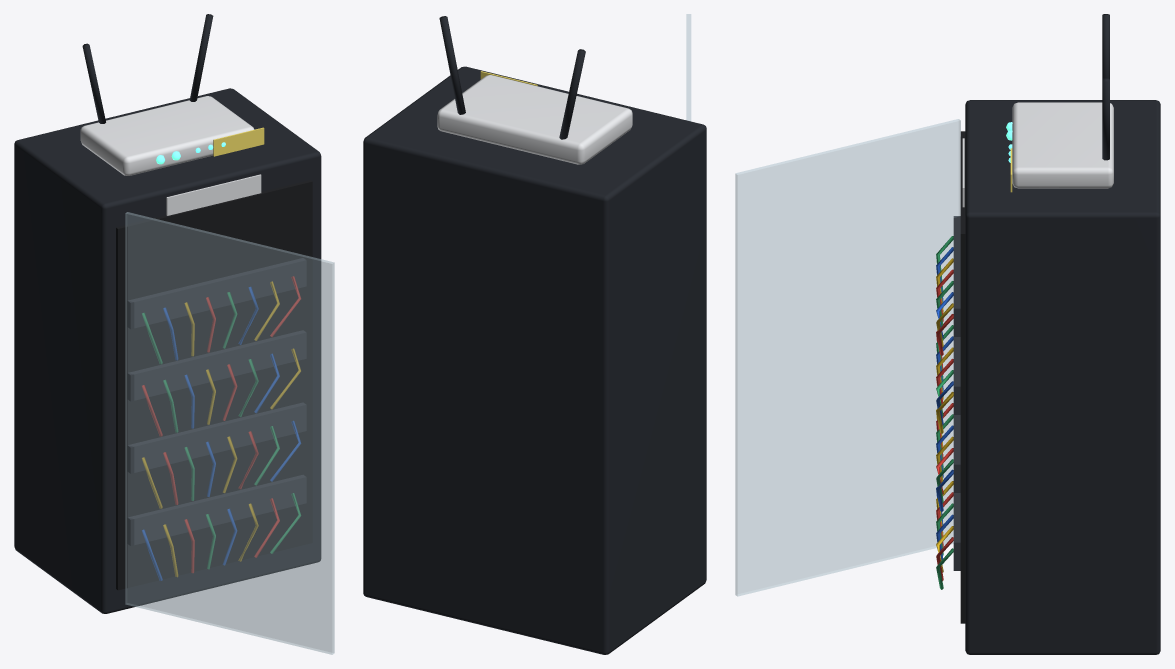
The model's file is NetworkRack.fbx.
The picture shows the model from 3 angles, left to right: view 1: azimuth 30°, elevation 25°; view 2: azimuth 150°, elevation 25°; view 3: azimuth 270°, elevation 25°; orthographic projection. The views are drawn at different scales.
Visible parts, largest first — view 1: NetworkRackBody; view 2: NetworkRackBody; view 3: NetworkRackBody.
Boxes of the visible parts, box(x1,y1,x2,y2) form: NetworkRackBody: box(14, 14, 334, 654); NetworkRackBody: box(363, 14, 706, 654); NetworkRackBody: box(735, 14, 1160, 654).
Size of the model in its own units: 0.7 by 1.56 by 1.09.
